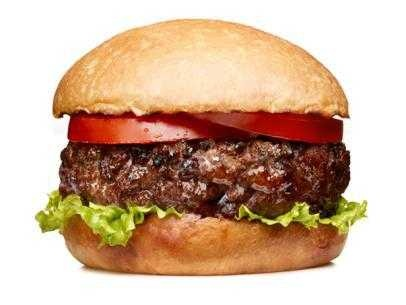hamburger: (42, 14, 375, 273)
